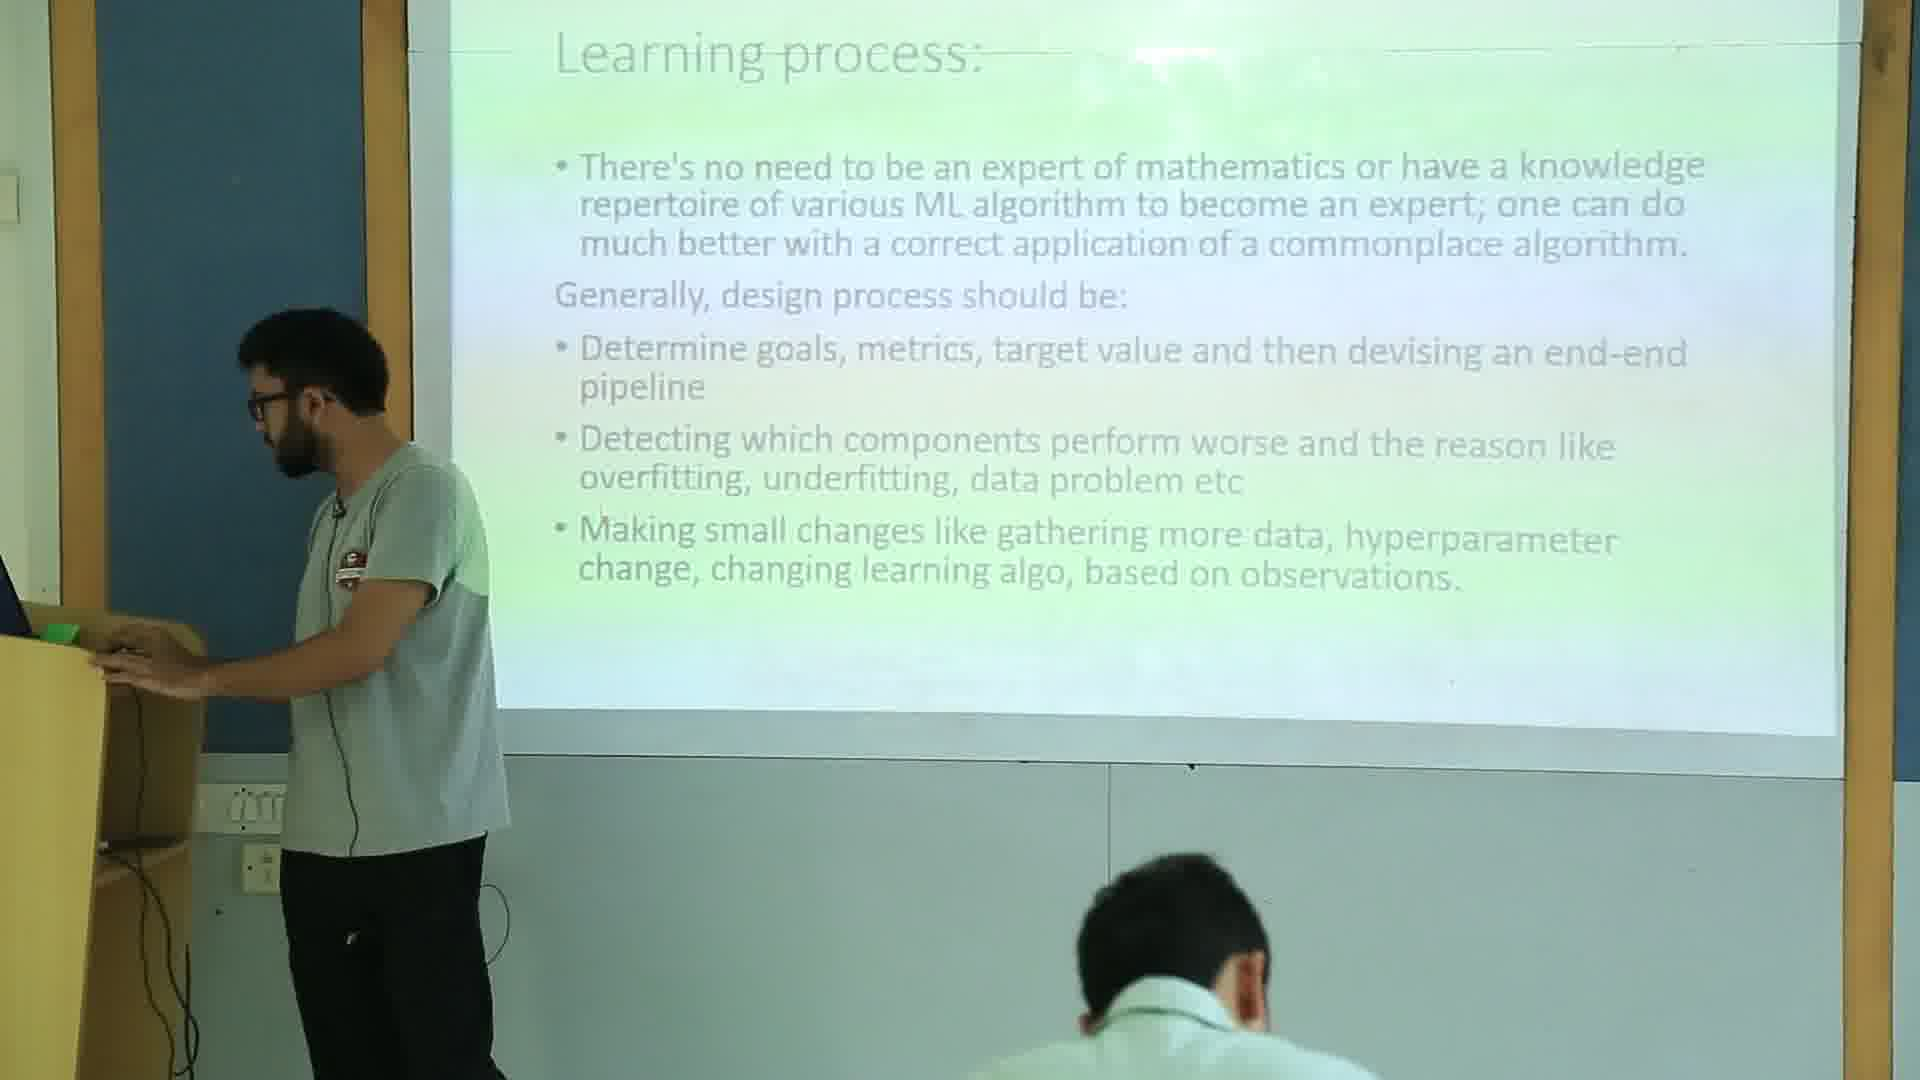slide: (448, 3, 1840, 737)
